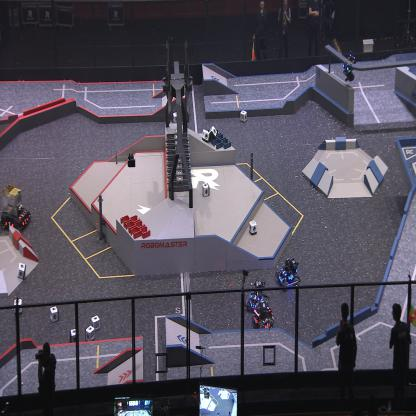car: (0, 183, 32, 231), (276, 258, 301, 289), (252, 298, 274, 332), (245, 279, 268, 311)
